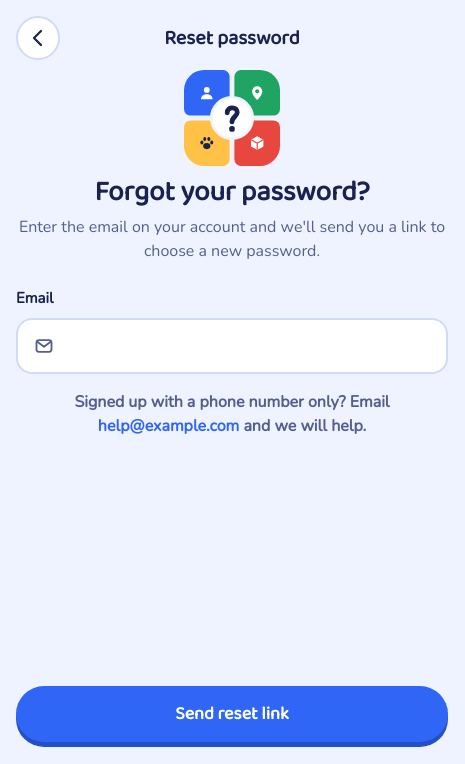
it: forgot and reset password › says to check the email and mentions support for phone-only accounts
The image size is (465, 764).
Expected: the link "help@example.com" is shown, [98,415,239,437]
Type "Maya@Example.com" into the field labelled "Email" at (232, 346), box [16,318,448,374]
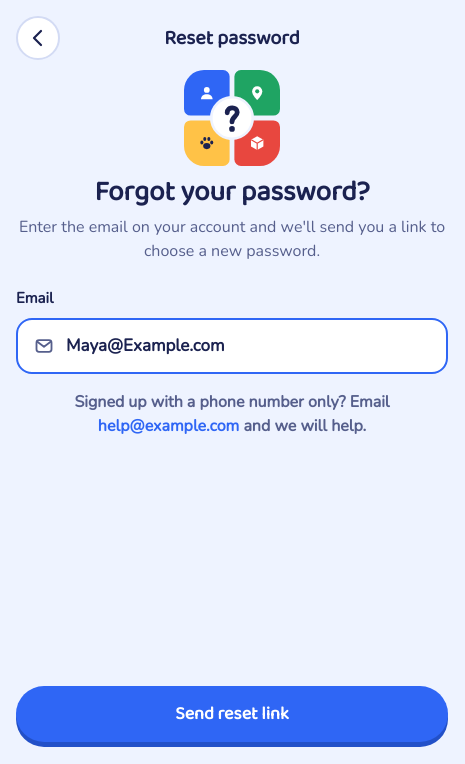
Click the button "Send reset link" at (232, 714), box [16,686,448,742]
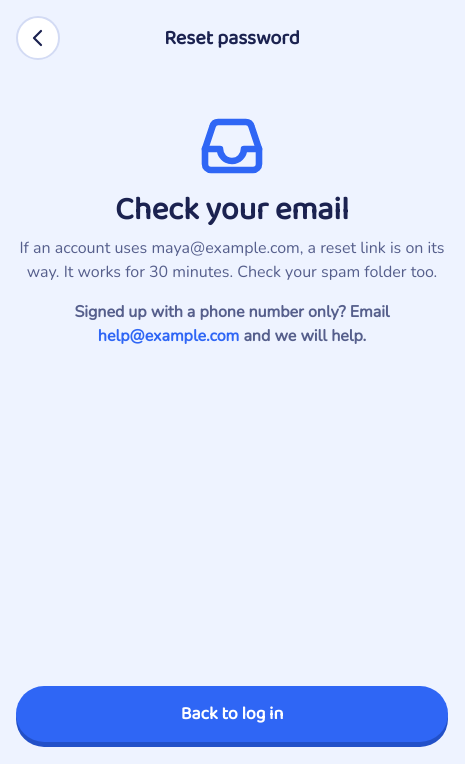
Result: the heading "Check your email" is shown at [115,185,349,236]
Result: the message shows "maya@example.com" at [20,237,445,283]
